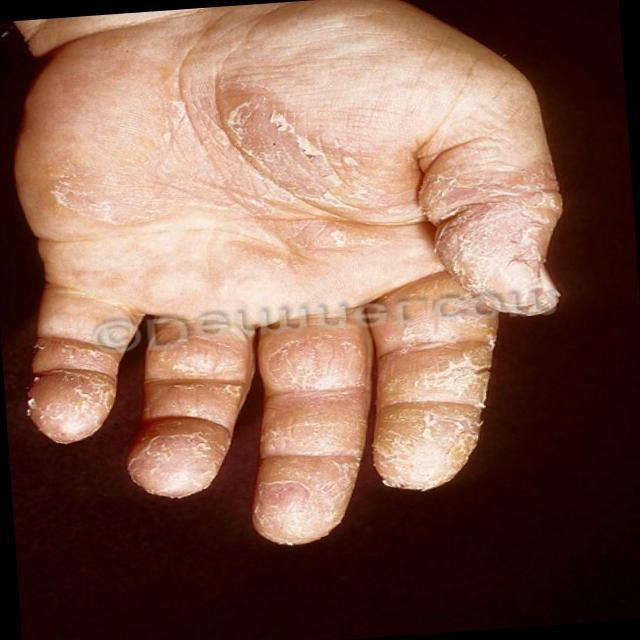Eczema: (19, 68, 542, 500)
